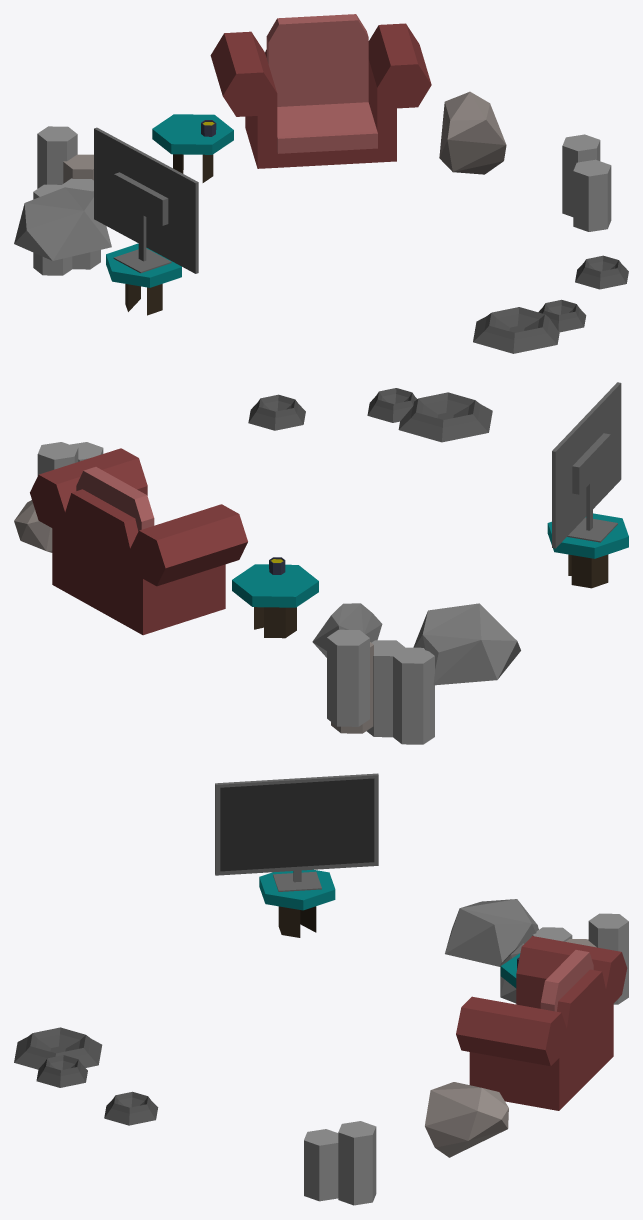
Rendered from Nivel 7.fbx.
The picture shows the model from 3 angles, top to bottom: view 1: azimuth 30°, elevation 25°; view 2: azimuth 150°, elevation 25°; view 3: azimuth 270°, elevation 25°; orthographic projection. The views are drawn at different scales.
Parts seen in each view (by area): view 1: Level07_Crater07; view 2: Level07_Crater07; view 3: Level07_Crater07.
Part boxes in pixels (left/top/right/bottom): Level07_Crater07: left=14, top=14, right=628, bottom=353; Level07_Crater07: left=14, top=382, right=628, bottom=744; Level07_Crater07: left=14, top=773, right=628, bottom=1205.
Size of the model in its own units: 668 by 264 by 685.
